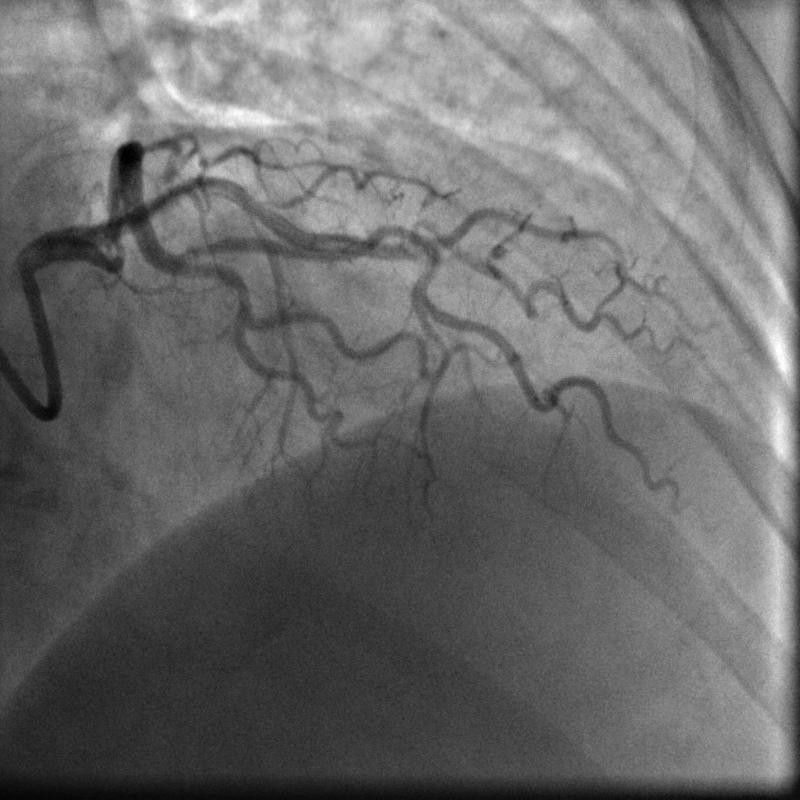Stenosis: (105, 217, 131, 272)
